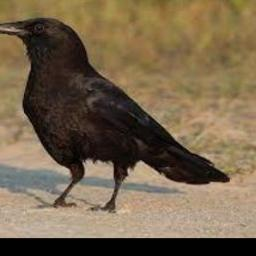Crow: (0, 18, 230, 212)
